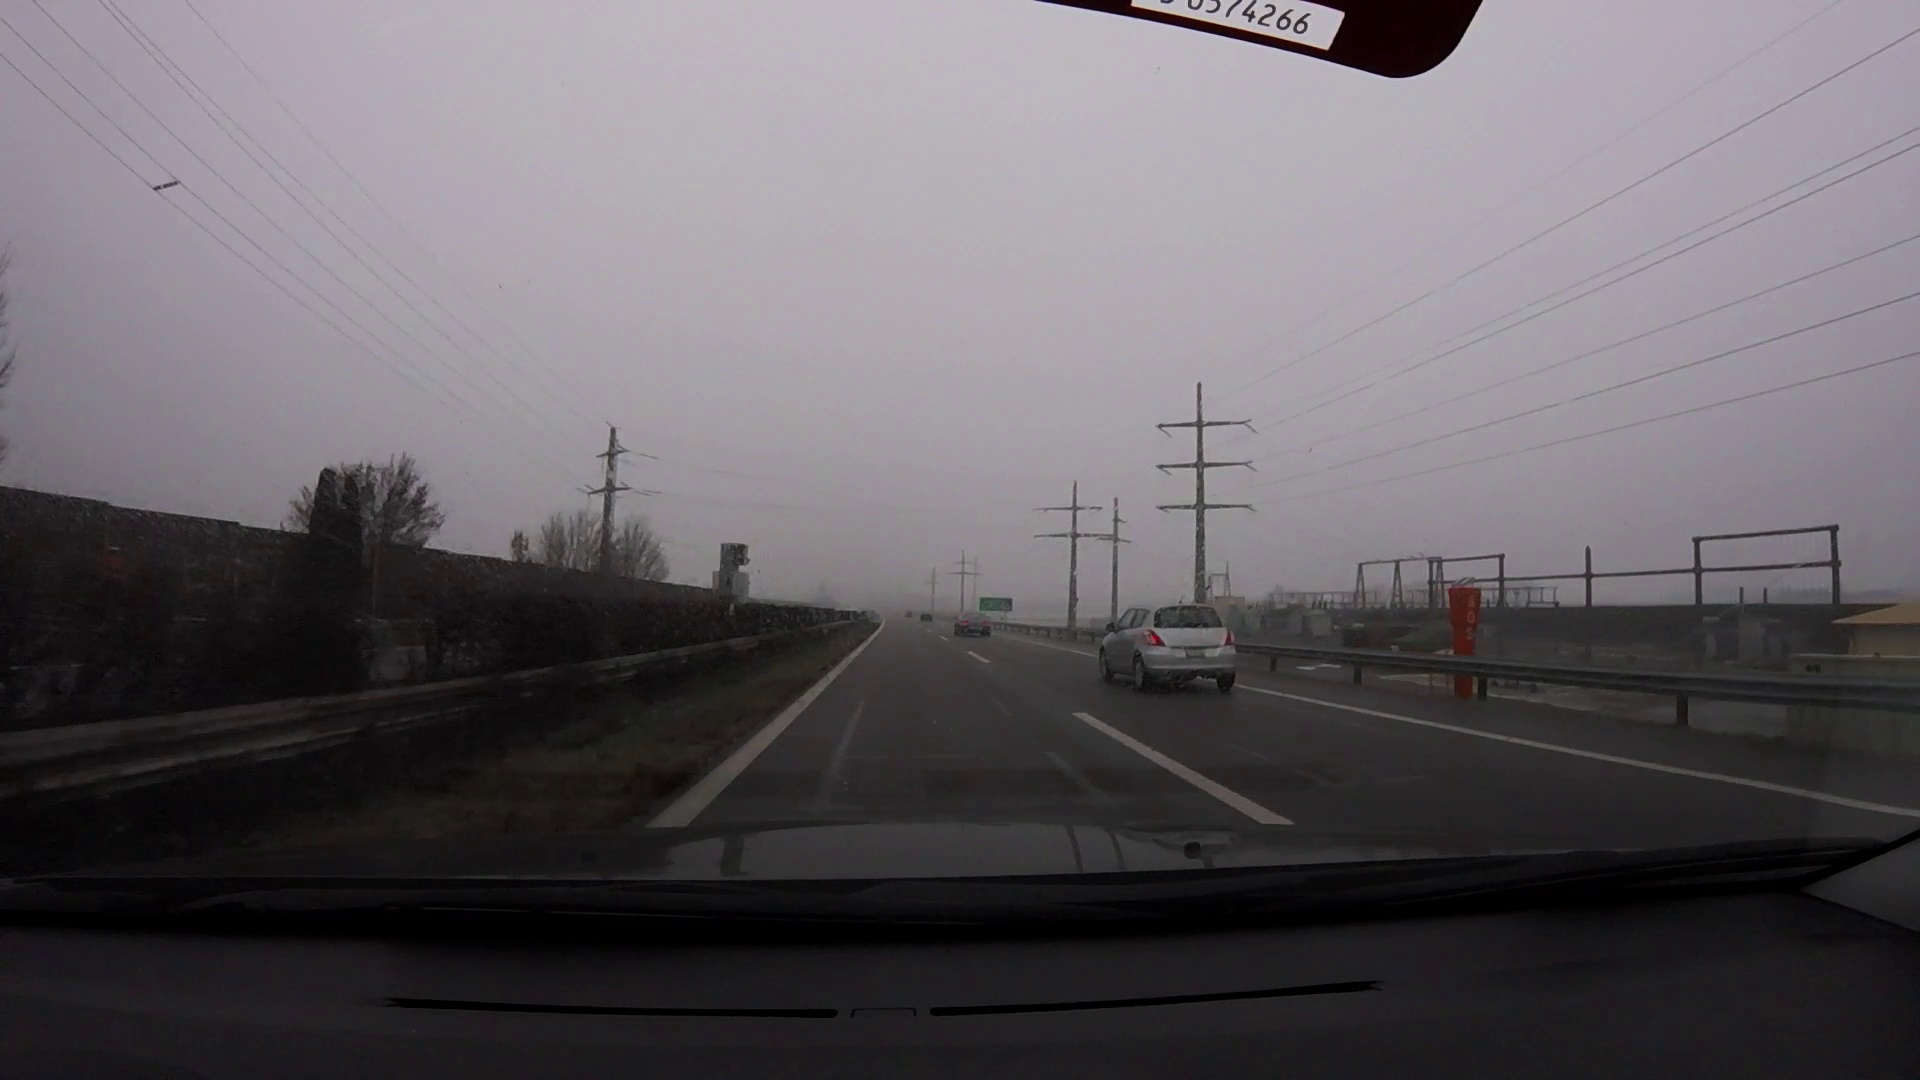radar: (717, 541, 753, 613)
